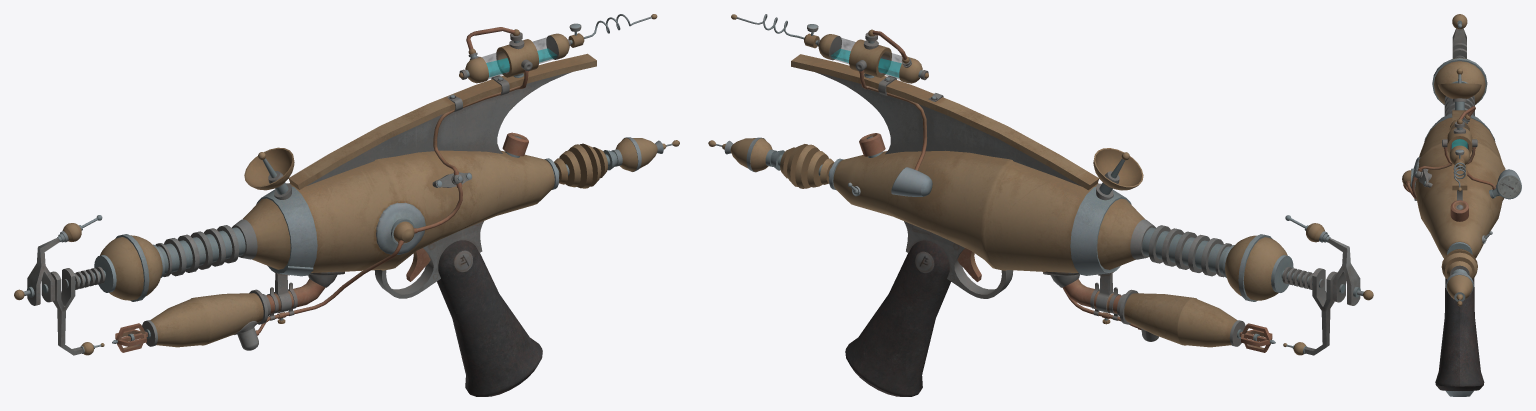
3 renders of one model, left to right at view 1: azimuth 30°, elevation 25°; view 2: azimuth 150°, elevation 25°; view 3: azimuth 270°, elevation 25°, orthographic. The views are drawn at different scales.
Visible parts, largest first — view 1: Raygun (×2); view 2: Raygun (×2); view 3: Raygun (×2).
Boxes of the visible parts, box(x1,y1,x2,y2) form: Raygun (×2): box(14, 14, 679, 396); Raygun (×2): box(708, 14, 1373, 396); Raygun (×2): box(1402, 14, 1521, 396).
Size of the model in its own units: 2 by 1.03 by 0.3915.
Materials: 2 (2 with a texture image).
